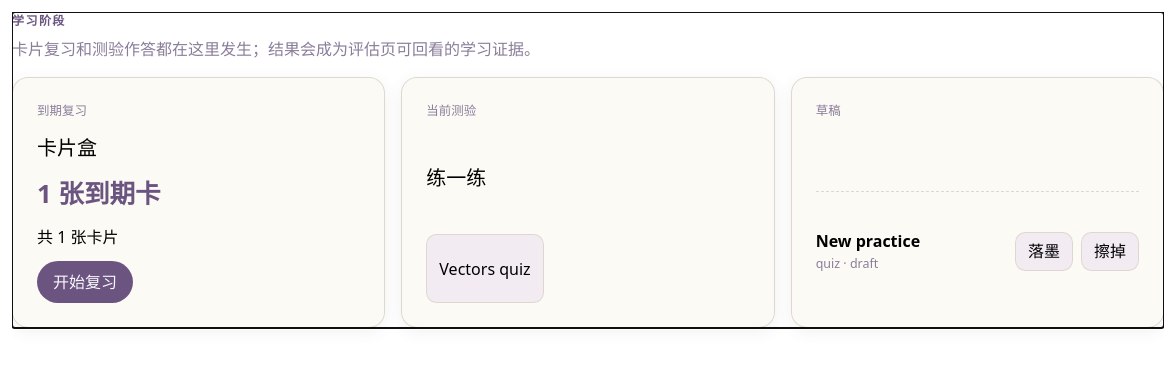
Test: PracticePage › activates a quiz draft in the URL space, then re-reads and opens its questions
Click the button "落墨": point(1044, 251) [1015,232,1073,271]
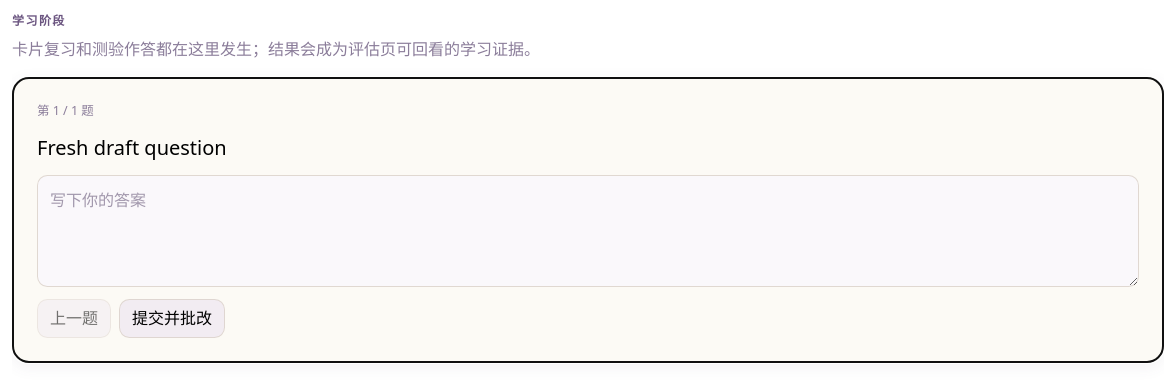
Result: the heading "Fresh draft question" is shown at [37,134,227,161]
